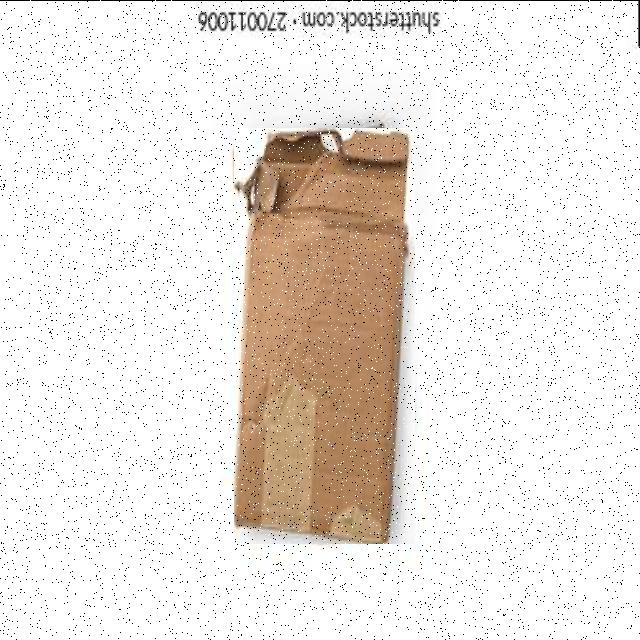defect: (234, 127, 415, 543)
